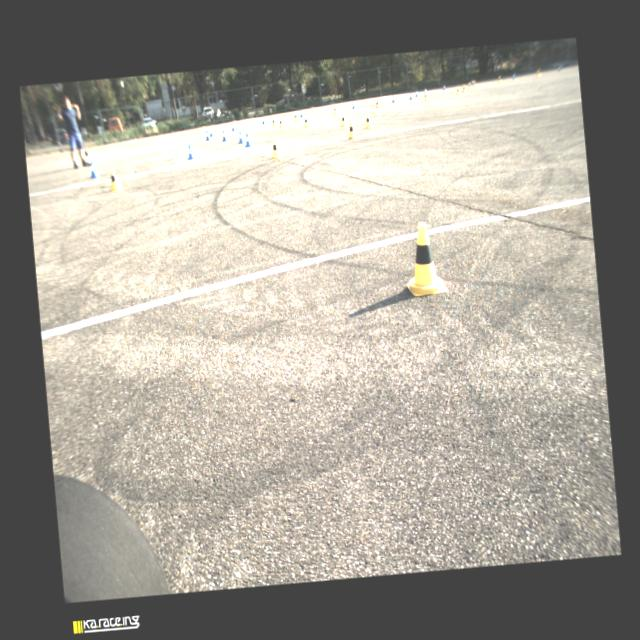blue_cone: (88, 160, 100, 178), (186, 143, 197, 159), (244, 132, 252, 146), (237, 129, 244, 143), (221, 129, 227, 140), (204, 130, 210, 140), (260, 115, 266, 124), (208, 128, 214, 136), (230, 122, 236, 130), (351, 101, 356, 109), (299, 109, 304, 117), (391, 94, 395, 102), (408, 92, 412, 100), (414, 90, 418, 97), (442, 85, 445, 90), (512, 74, 514, 79)
yellow_cone: (401, 220, 447, 296), (108, 166, 123, 192), (270, 136, 282, 158), (347, 120, 356, 138), (364, 112, 373, 128), (339, 112, 347, 126), (278, 116, 284, 128), (302, 115, 308, 126), (332, 105, 338, 114), (466, 81, 472, 89), (271, 117, 276, 126), (293, 112, 298, 120), (455, 86, 460, 94), (375, 99, 380, 107), (424, 92, 428, 100), (462, 84, 466, 92), (472, 80, 476, 87), (497, 76, 501, 82), (536, 70, 540, 76)
